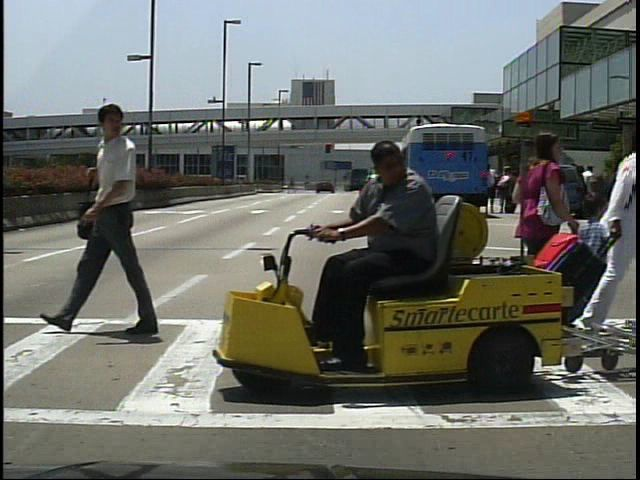person: (301, 136, 452, 374), (81, 100, 153, 337), (508, 124, 575, 355), (581, 118, 638, 344), (575, 184, 614, 326), (580, 162, 601, 216), (500, 165, 520, 218), (482, 162, 501, 214)
